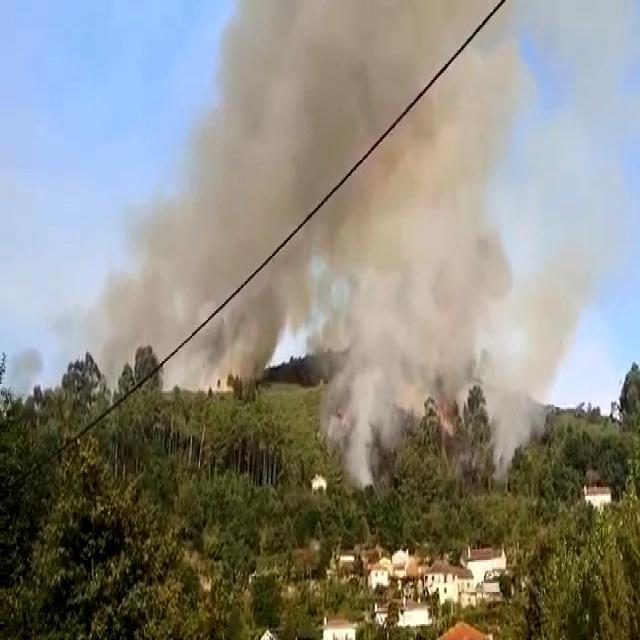Smoke: (327, 0, 577, 500), (84, 0, 366, 400)
